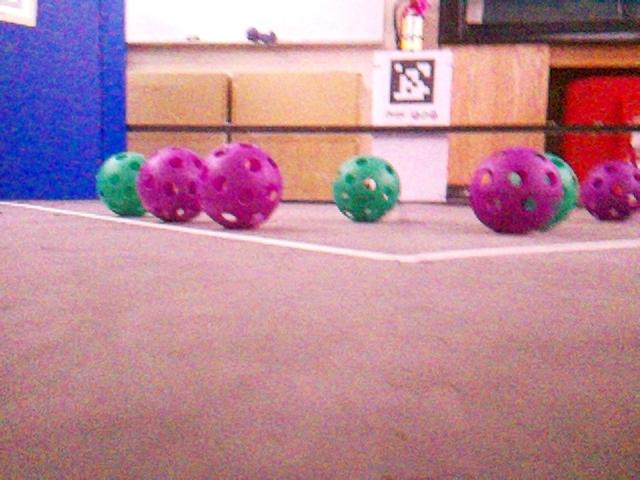Green: (331, 155, 398, 221), (94, 152, 148, 216), (545, 151, 579, 230)
Purple: (468, 147, 565, 232), (198, 142, 281, 227), (137, 147, 206, 220), (581, 160, 640, 220)
